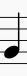G: (3, 10, 21, 67)
